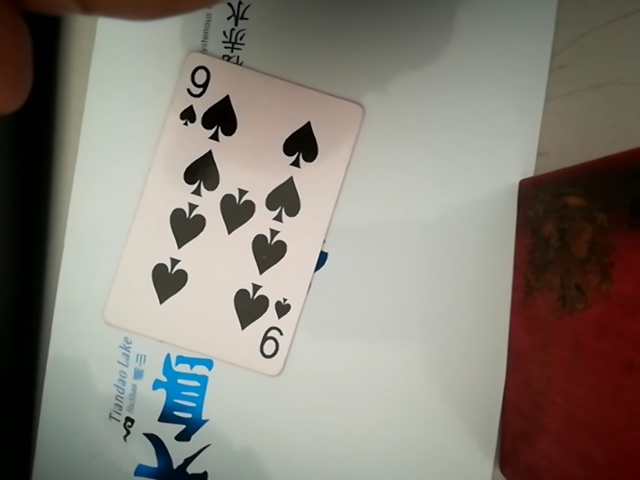ht 9: (109, 35, 357, 376)
